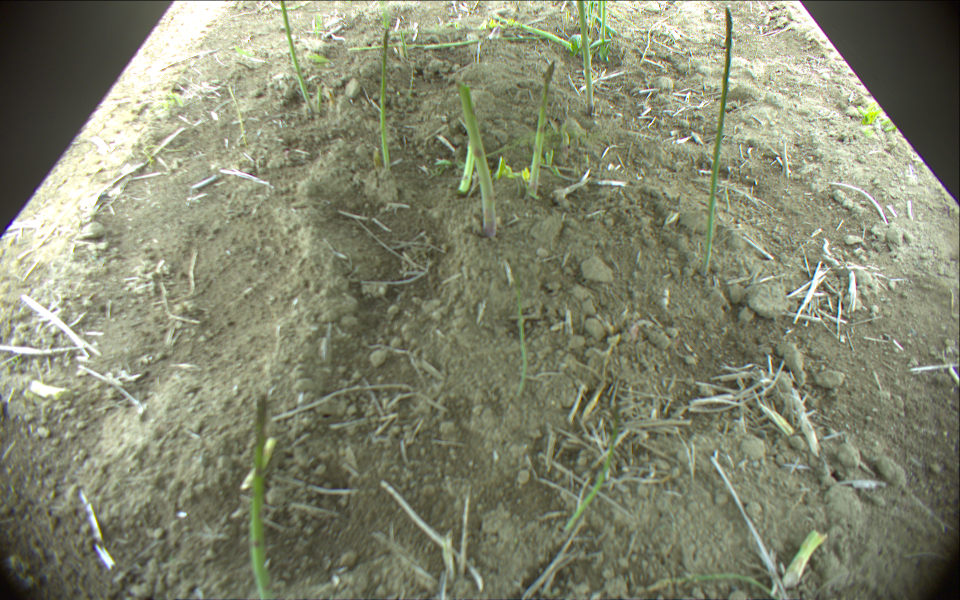aspa: (702, 5, 734, 277), (563, 403, 621, 529), (457, 82, 496, 238), (249, 396, 276, 600), (278, 1, 313, 113), (527, 61, 555, 198), (494, 15, 575, 52), (782, 527, 828, 587), (510, 282, 529, 399), (348, 37, 478, 53), (576, 1, 594, 116), (378, 30, 391, 171), (228, 85, 249, 146), (458, 140, 475, 193), (598, 1, 606, 43), (400, 30, 408, 56)
